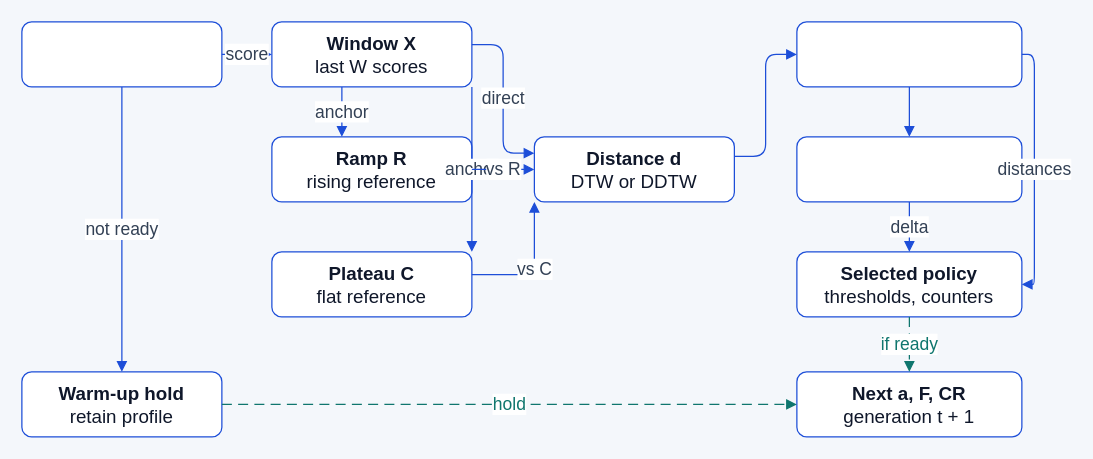
Some shapes in this 1093 by 459 pixel diagram are drawn without their labels. The centre of each missing label's shape, as x and y in pixels:
D_R and D_C versus R and C: point 909,54
Delta D_R minus D_C: point 909,169
Score q max or minus min: point 121,54
